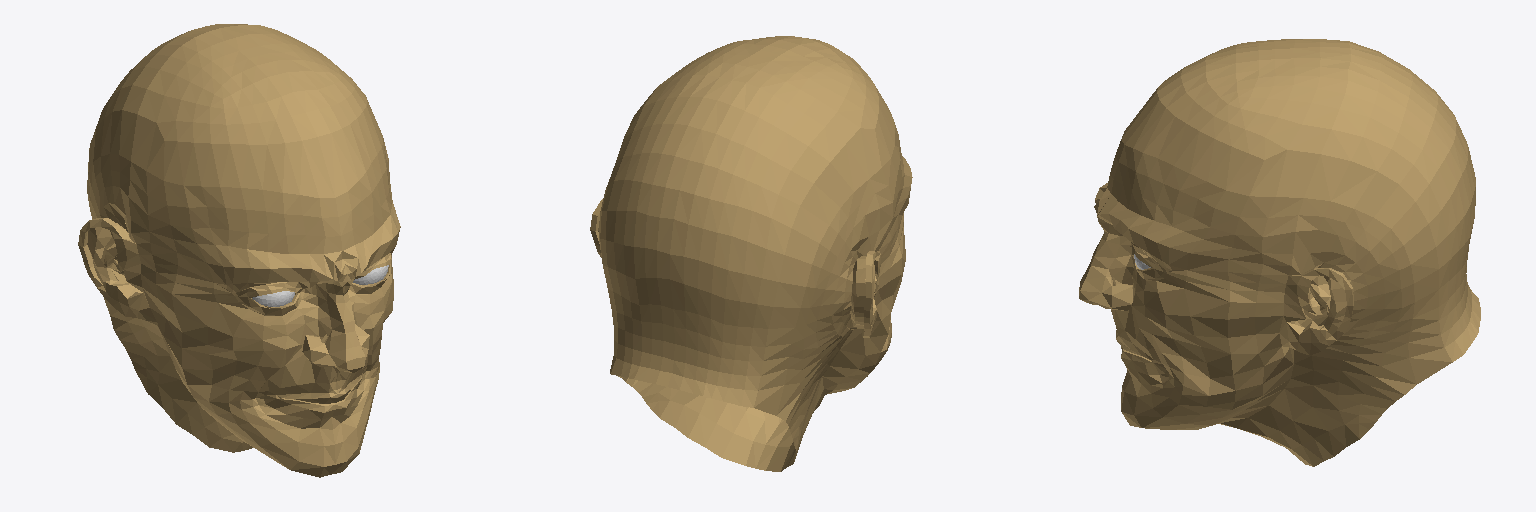
3 views of the same model, side by side, from view 1: azimuth 30°, elevation 25°; view 2: azimuth 150°, elevation 25°; view 3: azimuth 270°, elevation 25° (orthographic).
Visible parts, largest first — view 1: face face; view 2: face face; view 3: face face.
Part boxes in pixels (x1,y1,x2,y2): face face: (78,24,400,477); face face: (590,36,912,471); face face: (1079,39,1480,466).
Size of the model in its own units: 16.85 by 23.25 by 20.75.